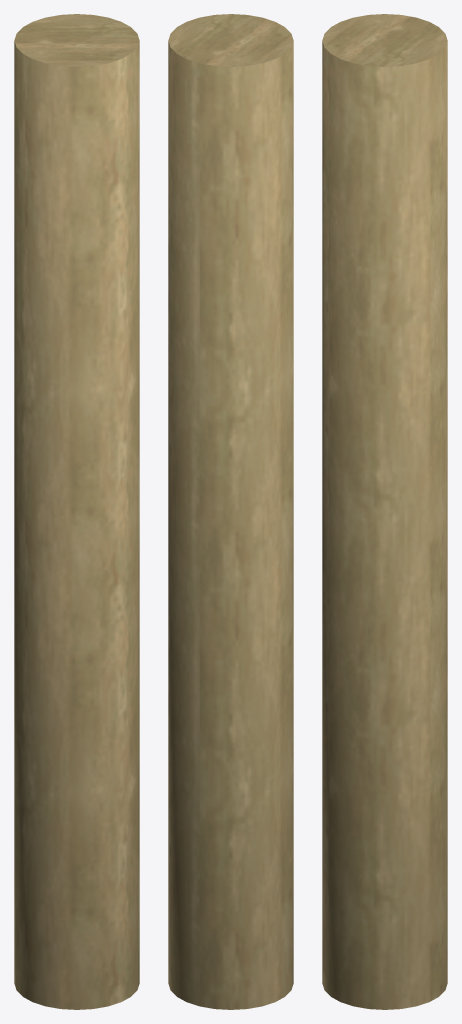
The model's file is farm-fenceWood-post-cbj_LOD00.gltf.
3 views of the same model, side by side, from view 1: azimuth 90°, elevation 25°; view 2: azimuth 150°, elevation 25°; view 3: azimuth 330°, elevation 25° (orthographic).
Visible parts, largest first — view 1: fence00; view 2: fence00; view 3: fence00.
Boxes of the visible parts, box(x1,y1,x2,y2) form: fence00: box(14, 14, 139, 1009); fence00: box(168, 14, 293, 1009); fence00: box(322, 14, 447, 1009).
Size of the model in its own units: 0.2202 by 1.83 by 0.2202.
